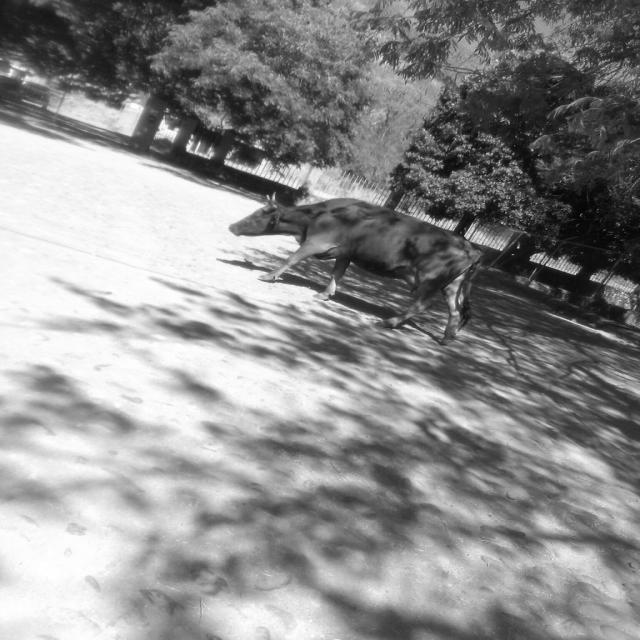cow: (230, 199, 481, 341)
